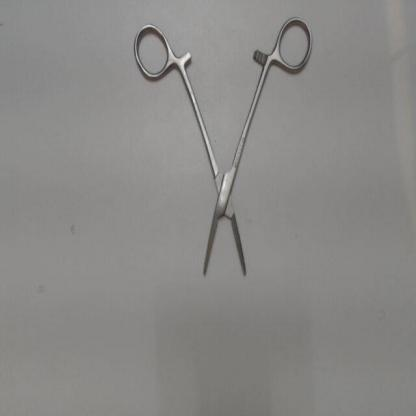Mayo Needle Holder: (129, 11, 316, 288)
